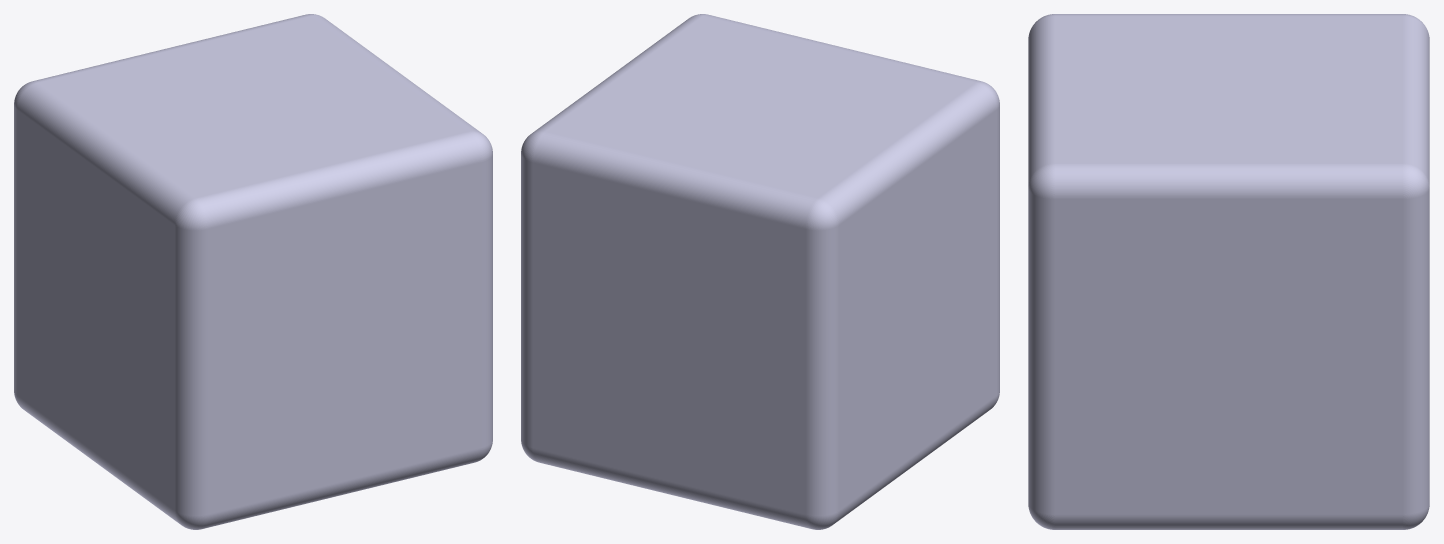
File: Redbox_150mm.dae
The picture shows the model from 3 angles, left to right: view 1: azimuth 30°, elevation 25°; view 2: azimuth 150°, elevation 25°; view 3: azimuth 270°, elevation 25°; orthographic projection. The views are drawn at different scales.
Visible parts, largest first — view 1: node0; view 2: node0; view 3: node0.
Part boxes in pixels (x1,y1,x2,y2): node0: [14, 14, 492, 529]; node0: [521, 14, 999, 529]; node0: [1028, 14, 1429, 529].
Size of the model in its own units: 0.15 by 0.15 by 0.15.
